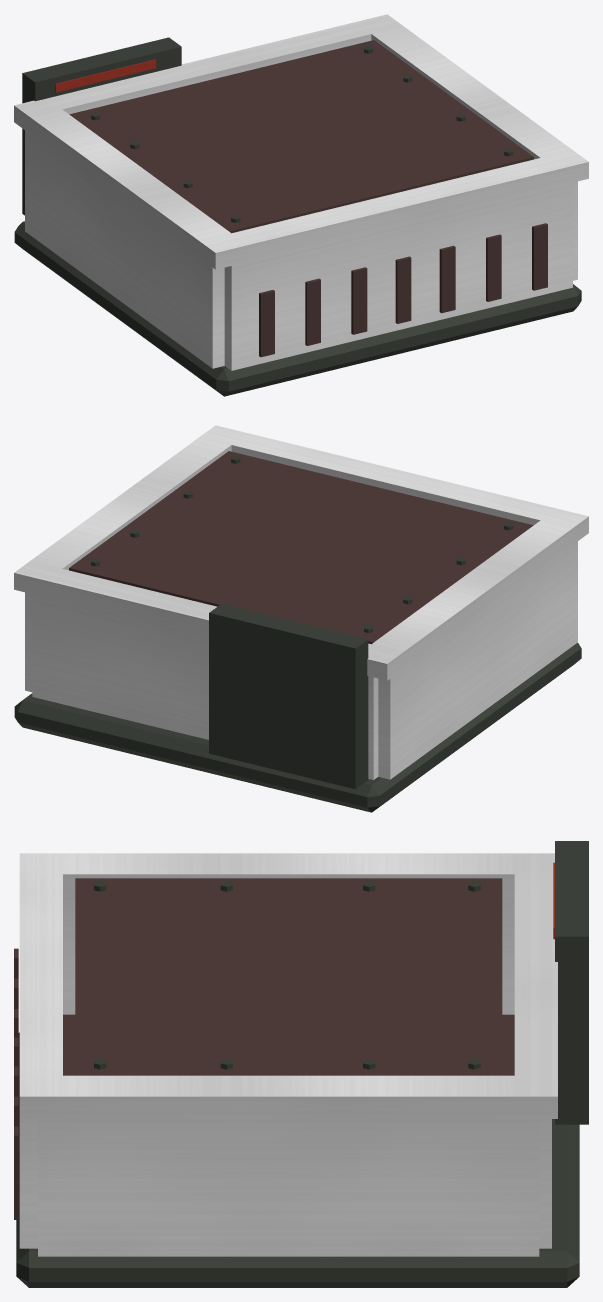
Rendered from security_crate.obj.
3 views of the same model, one above another, from view 1: azimuth 30°, elevation 25°; view 2: azimuth 150°, elevation 25°; view 3: azimuth 270°, elevation 25° (orthographic). The views are drawn at different scales.
Visible parts, largest first — view 1: security_crate; view 2: security_crate; view 3: security_crate.
Boxes of the visible parts, x1,y1,x2,y2 form: security_crate: (14, 14, 588, 396); security_crate: (14, 425, 588, 812); security_crate: (14, 841, 588, 1287).
Size of the model in its own units: 1.86 by 0.8 by 1.86.
